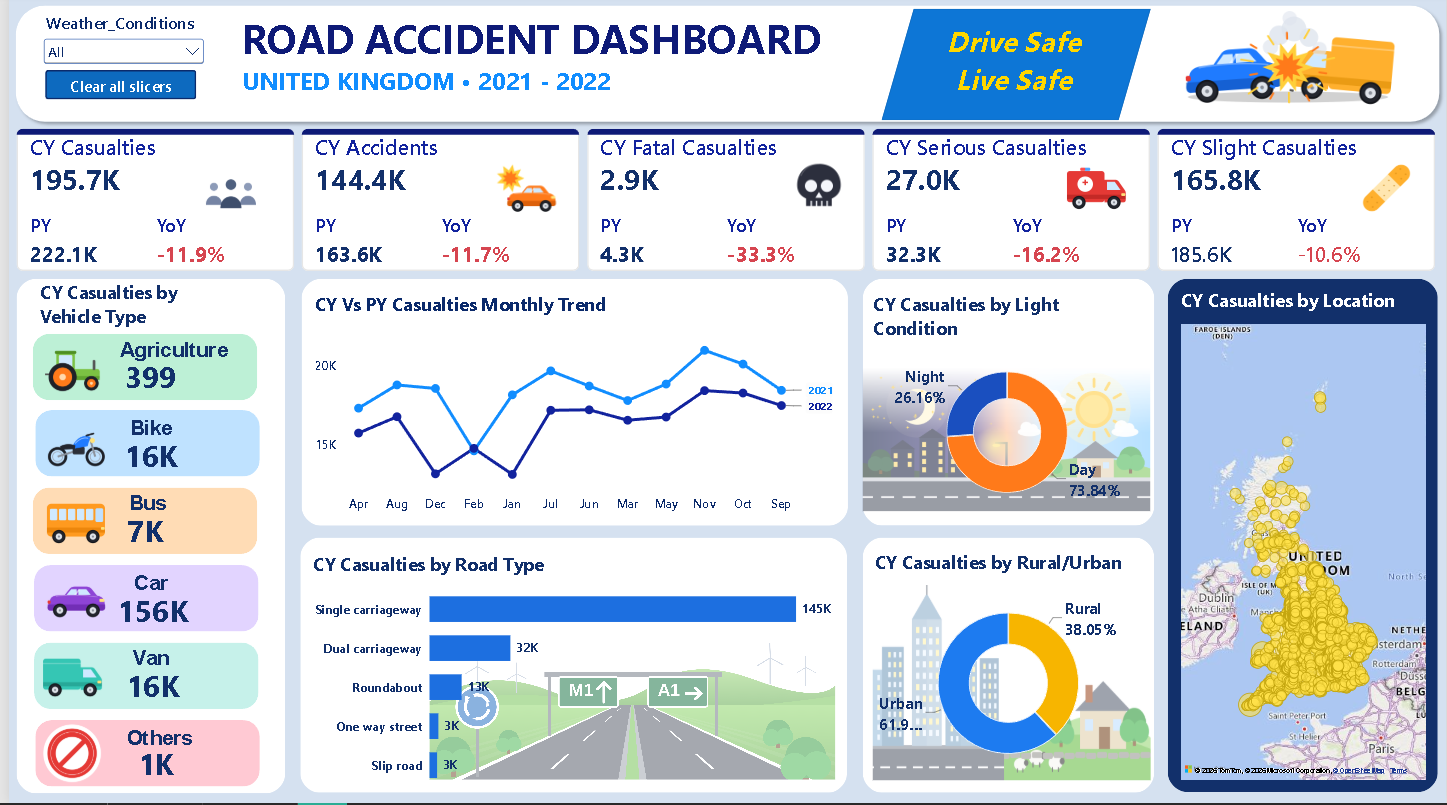

Layout of this report page (visuals, bound fields, positions):
{"tool":"powerbi","page":{"name":"Page 1","canvas":[1920,1080],"ordinal":0},"visuals":[{"type":"shape","box":[0,5.4,1919.6,173.2],"z":0},{"type":"shape","box":[1548.2,378.6,360.7,685.7],"z":1000},{"type":"shape","box":[10.7,378.6,358.9,687.5],"z":2000},{"type":"shape","box":[390,378.9,730,330],"z":3000},{"type":"shape","box":[389.3,725,730.4,341.1],"z":4000},{"type":"shape","box":[1139.8,378.9,389.5,329.8],"z":5000},{"type":"shape","box":[1141.1,725,389.3,341.1],"z":6000},{"type":"textbox","box":[310.5,21.1,778.9,154.4],"z":7000},{"type":"shape","box":[1164.9,17.5,359.6,149.1],"z":8000},{"type":"textbox","box":[1196.5,36.8,300,149.1],"z":9000},{"type":"image","box":[1562.8,0,291.3,167.4],"z":11000},{"type":"textbox","box":[41.9,378.5,279.1,76.7],"z":12000},{"type":"shape","box":[31.4,451.7,300,89],"z":13000},{"type":"shape","box":[34.9,554.7,300,89],"z":14000},{"type":"shape","box":[31.4,657.6,300,89],"z":15000},{"type":"shape","box":[33.1,762.2,300,89],"z":16000},{"type":"shape","box":[33.1,865.1,300,89],"z":17000},{"type":"shape","box":[34.9,968,300,89],"z":18000},{"type":"image","box":[36.6,455.2,95,85.5],"z":19000},{"type":"image","box":[41.9,554.7,95,85],"z":20000},{"type":"image","box":[41.9,661,95,85.5],"z":21000},{"type":"image","box":[41.9,762.2,95,85],"z":22000},{"type":"image","box":[36.6,866.9,95,85],"z":23000},{"type":"image","box":[36.6,969.8,95,85.5],"z":24000},{"type":"cardVisual","title":"Agriculture","fields":{"Data":["Sum(Data.Number_of_Casualties)"]},"box":[148.2,456.9,203.8,86.4],"z":25000},{"type":"cardVisual","title":"Bike","fields":{"Data":["Sum(Data.Number_of_Casualties)"]},"box":[67.9,561.9,242.9,86.4],"z":26000},{"type":"cardVisual","title":"Bus","fields":{"Data":["Sum(Data.Number_of_Casualties)"]},"box":[63.8,662.8,242.9,86.4],"z":27000},{"type":"cardVisual","title":"Car","fields":{"Data":["Sum(Data.Number_of_Casualties)"]},"box":[67.9,769.8,242.9,86.4],"z":28000},{"type":"cardVisual","title":"Van","fields":{"Data":["Sum(Data.Number_of_Casualties)"]},"box":[67.9,870.7,242.9,86.4],"z":29000},{"type":"cardVisual","title":"Others","fields":{"Data":["Sum(Data.Number_of_Casualties)"]},"box":[80.2,976.7,242.4,80.2],"z":30000},{"type":"image","box":[1153.6,787.5,371.4,260.7],"z":32000},{"type":"clusteredBarChart","title":"CY Casualties by Road Type","fields":{"Category":["Data.Road_Type"],"Y":["Data.CY Casualties"]},"box":[391.1,728.6,728.6,335.7],"z":33000},{"type":"donutChart","title":"CY Casualties by Rural/Urban","fields":{"Series":["Data.Urban_or_Rural_Area"],"Y":["Data.CY Casualties"]},"box":[1140.7,725.6,389,338.4],"z":34000},{"type":"image","box":[1140.7,416.9,383.7,352.3],"z":35000},{"type":"donutChart","title":"CY Casualties by Light Condition","fields":{"Series":["Data.Light_Conditions (groups)"],"Y":["Data.CY Casualties"]},"box":[1139,380.2,389,326.2],"z":36000},{"type":"map","title":"CY Casualties by Location","fields":{"Size":["Data.Total_Casualties"],"X":["Data.Longitude"],"Y":["Data.Latitude"]},"box":[1548.8,375,359.3,689],"z":37000},{"type":"slicer","fields":{"Values":["Data.Weather_Conditions"]},"box":[41.9,20.9,223.3,76.7],"z":38000},{"type":"actionButton","box":[48.2,100,201.8,39.3],"z":39000},{"type":"cardVisual","fields":{"Data":["Data.CY Casualties","Data.CY Accidents","Data.CY Fatal Casualties","Data.CY Serious Casualties","Data.CY Slight Casualties"]},"box":[10,178.7,1898.5,190.4],"z":40000},{"type":"image","box":[250.5,215.4,92.4,85.5],"z":41000},{"type":"image","box":[640.1,214.5,104.7,83.7],"z":42000},{"type":"image","box":[1041.9,215.4,80.1,85.2],"z":43000},{"type":"image","box":[1407.6,215.4,88.5,85.2],"z":44000},{"type":"image","box":[1793.3,215.4,93.5,85.2],"z":45000},{"type":"lineChart","title":"CY Vs PY Casualties Monthly Trend","fields":{"Category":["Calendar.Month"],"Series":["Calendar.Year"],"Y":["Data.Total_Casualties"]},"box":[392.4,380.2,724,332],"z":45001}]}

Visuals, with their boxes in screenshot pixels (x1, y1, x2, y2), scaled from the page's 1920x1080 canvas onto the 1447x805 screenshot:
shape: box=[0, 4, 1446, 133]
shape: box=[1167, 282, 1439, 793]
shape: box=[8, 282, 279, 795]
shape: box=[294, 282, 844, 528]
shape: box=[293, 540, 844, 795]
shape: box=[859, 282, 1153, 528]
shape: box=[860, 540, 1153, 795]
textbox: box=[234, 16, 821, 131]
shape: box=[878, 13, 1149, 124]
textbox: box=[902, 27, 1128, 139]
image: box=[1178, 0, 1397, 125]
textbox: box=[32, 282, 242, 339]
shape: box=[24, 337, 250, 403]
shape: box=[26, 413, 252, 480]
shape: box=[24, 490, 250, 556]
shape: box=[25, 568, 251, 634]
shape: box=[25, 645, 251, 711]
shape: box=[26, 722, 252, 788]
image: box=[28, 339, 99, 403]
image: box=[32, 413, 103, 477]
image: box=[32, 493, 103, 556]
image: box=[32, 568, 103, 631]
image: box=[28, 646, 99, 710]
image: box=[28, 723, 99, 787]
"Agriculture" cardVisual: box=[112, 341, 265, 405]
"Bike" cardVisual: box=[51, 419, 234, 483]
"Bus" cardVisual: box=[48, 494, 231, 558]
"Car" cardVisual: box=[51, 574, 234, 638]
"Van" cardVisual: box=[51, 649, 234, 713]
"Others" cardVisual: box=[60, 728, 243, 788]
image: box=[869, 587, 1149, 781]
"CY Casualties by Road Type" clusteredBarChart: box=[295, 543, 844, 793]
"CY Casualties by Rural/Urban" donutChart: box=[860, 541, 1153, 793]
image: box=[860, 311, 1149, 573]
"CY Casualties by Light Condition" donutChart: box=[858, 283, 1152, 527]
"CY Casualties by Location" map: box=[1167, 280, 1438, 793]
slicer - Data.Weather_Conditions: box=[32, 16, 200, 73]
actionButton: box=[36, 75, 188, 104]
cardVisual - Data.CY Casualties x Data.CY Accidents: box=[8, 133, 1438, 275]
image: box=[189, 161, 258, 224]
image: box=[482, 160, 561, 222]
image: box=[785, 161, 846, 224]
image: box=[1061, 161, 1128, 224]
image: box=[1352, 161, 1422, 224]
"CY Vs PY Casualties Monthly Trend" lineChart: box=[296, 283, 841, 531]
